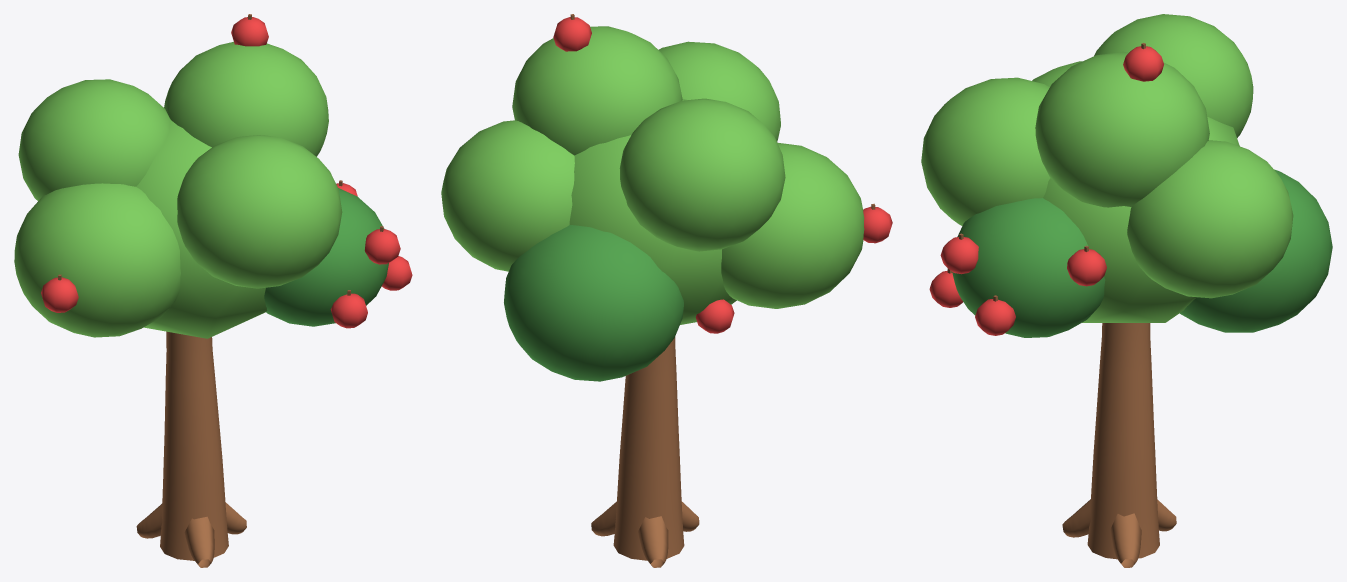
The model's file is prop_tree_fruit.glb.
The picture shows the model from 3 angles, left to right: view 1: azimuth 30°, elevation 25°; view 2: azimuth 150°, elevation 25°; view 3: azimuth 270°, elevation 25°; orthographic projection. The views are drawn at different scales.
Parts seen in each view (by area): view 1: prop_tree_fruit; view 2: prop_tree_fruit; view 3: prop_tree_fruit.
Boxes of the visible parts, box(x1,y1,x2,y2) form: prop_tree_fruit: box(14, 14, 412, 567); prop_tree_fruit: box(441, 14, 892, 567); prop_tree_fruit: box(921, 14, 1332, 567).
Bounding box in the file's own units: 2.57 × 3.58 × 2.5.
